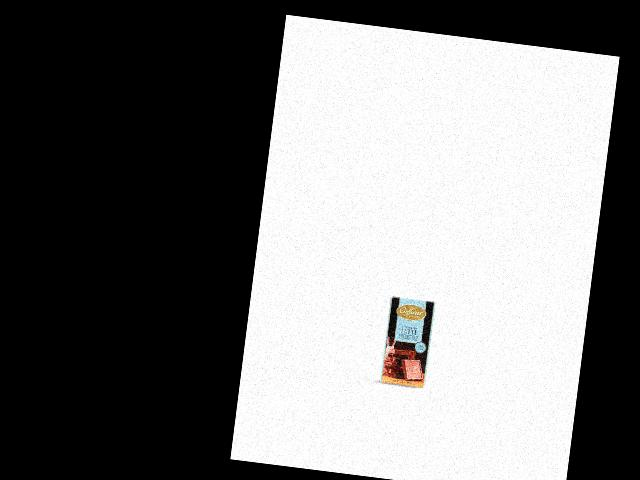chocolate: (378, 295, 436, 389)
